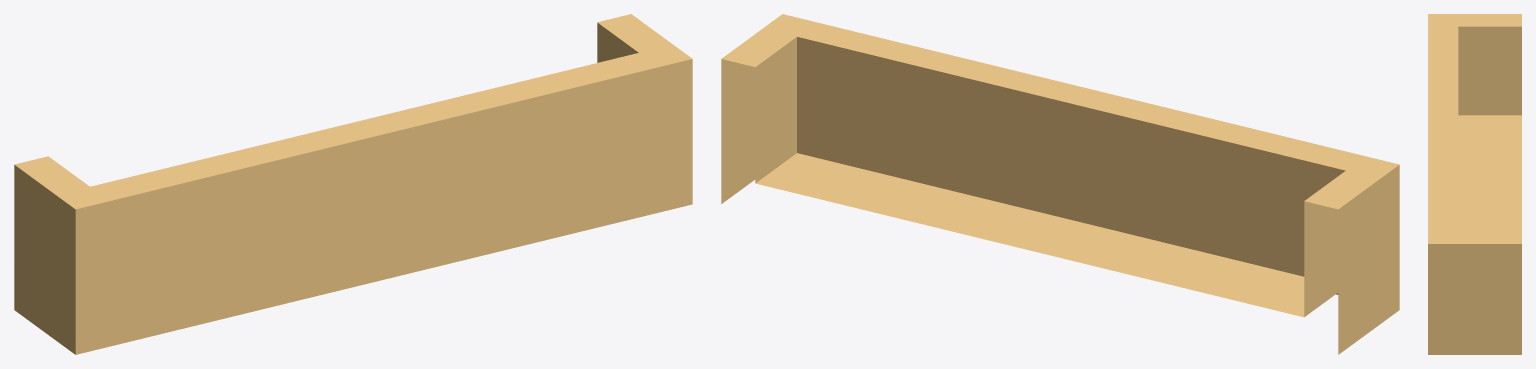
The model's file is Town_Bld-sm_Obj_BalconyA.FBX.
The picture shows the model from 3 angles, left to right: view 1: azimuth 30°, elevation 25°; view 2: azimuth 150°, elevation 25°; view 3: azimuth 270°, elevation 25°; orthographic projection. The views are drawn at different scales.
Visible parts, largest first — view 1: Town_Bld-sm_Obj_BalconyA; view 2: Town_Bld-sm_Obj_BalconyA; view 3: Town_Bld-sm_Obj_BalconyA.
Part boxes in pixels (x1=…): Town_Bld-sm_Obj_BalconyA: x1=14, y1=14, x2=692, y2=354; Town_Bld-sm_Obj_BalconyA: x1=721, y1=14, x2=1399, y2=354; Town_Bld-sm_Obj_BalconyA: x1=1428, y1=14, x2=1521, y2=354.
Bounding box in the file's own units: 301 × 67.89 × 51.92.
